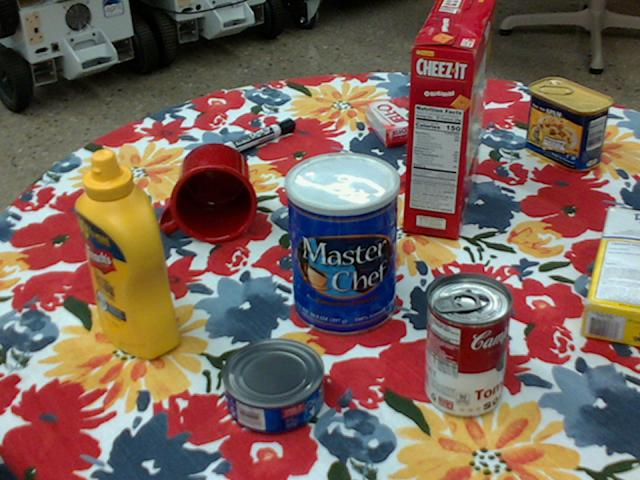cracker_box: (406, 0, 496, 238)
gelatin_box: (363, 94, 439, 147)
large_marker: (215, 116, 294, 158)
master_chef_can: (283, 152, 398, 336)
mug: (158, 143, 258, 244)
mustard_bottle: (74, 150, 181, 358)
potted_meat_can: (526, 76, 613, 169)
sugar_box: (580, 206, 639, 346)
tomato_soup_can: (424, 271, 511, 417)
tuna_fish_can: (218, 338, 321, 433)
